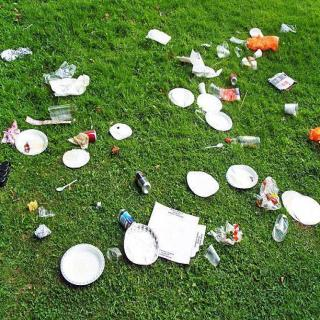METAL: (136, 165, 152, 199), (272, 212, 288, 245), (116, 205, 136, 230), (78, 130, 97, 148), (230, 72, 240, 85)
